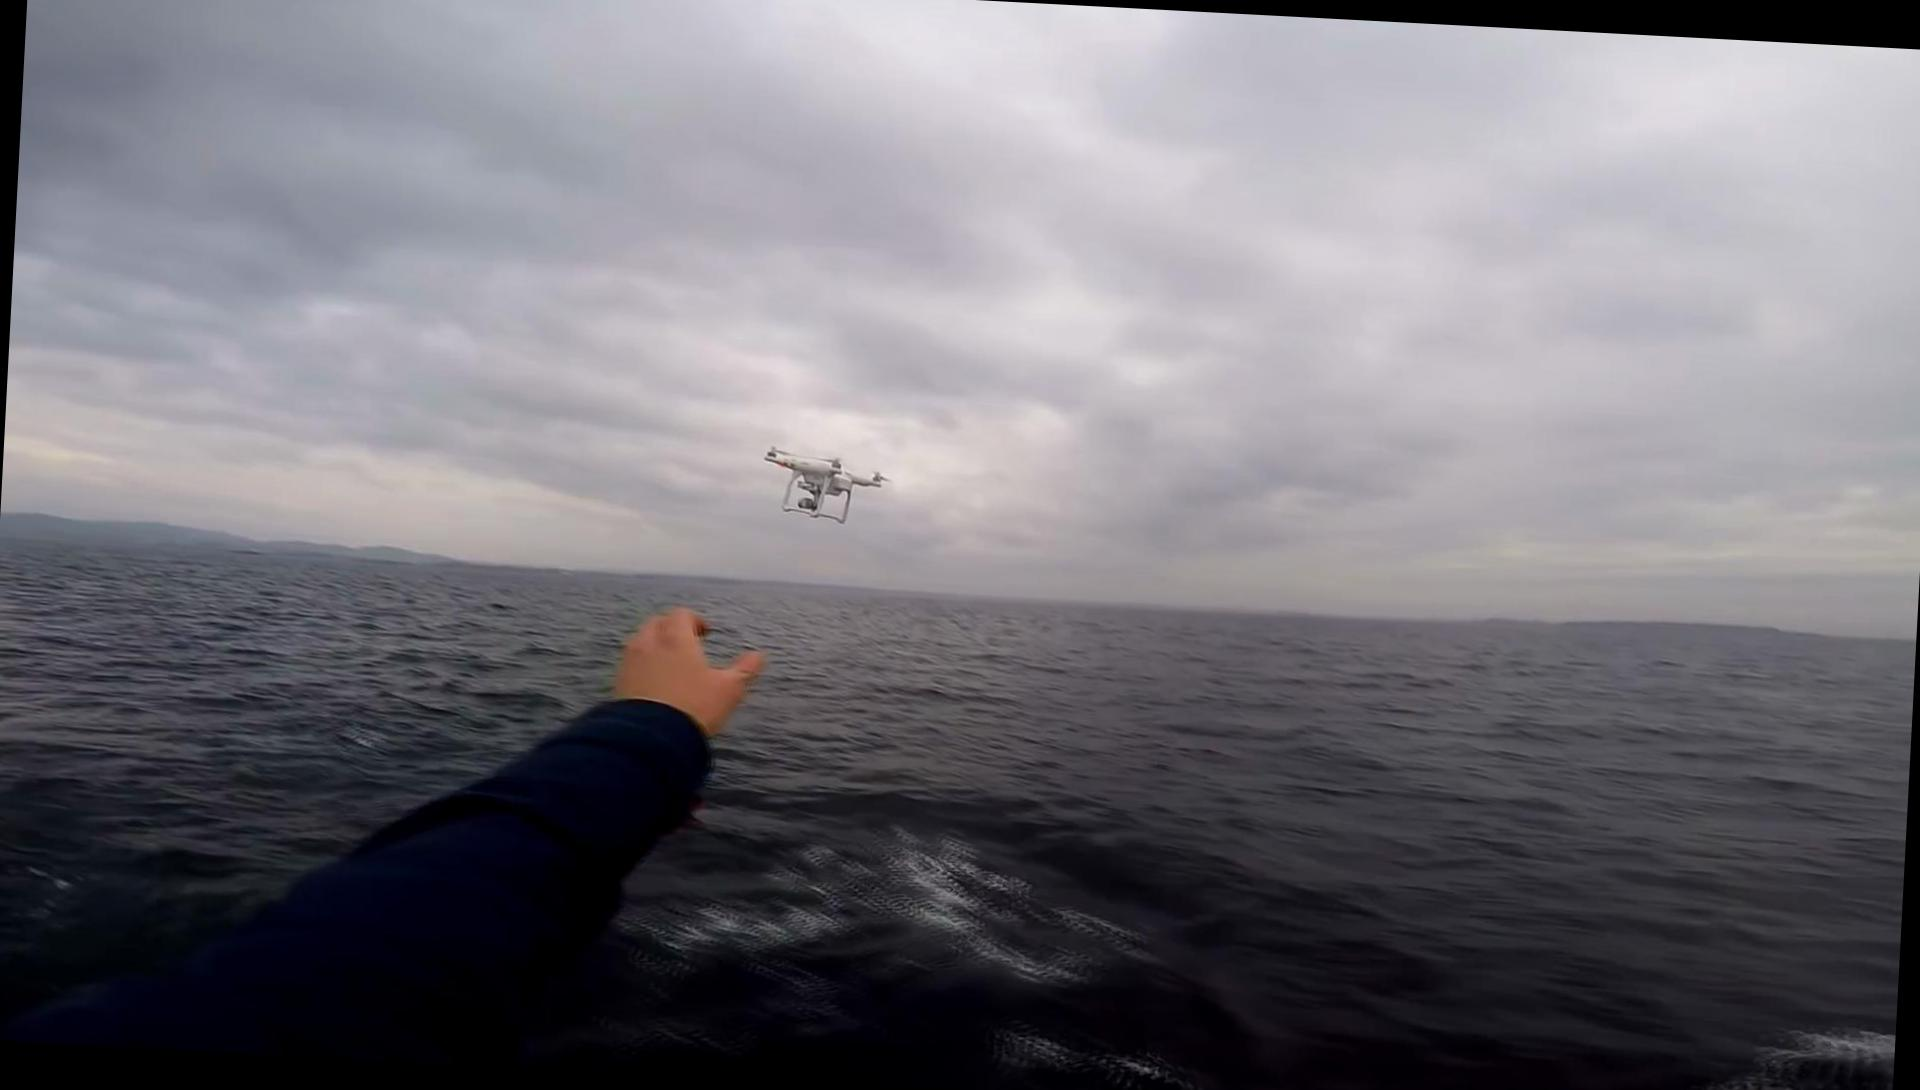drone: (756, 436, 894, 532)
